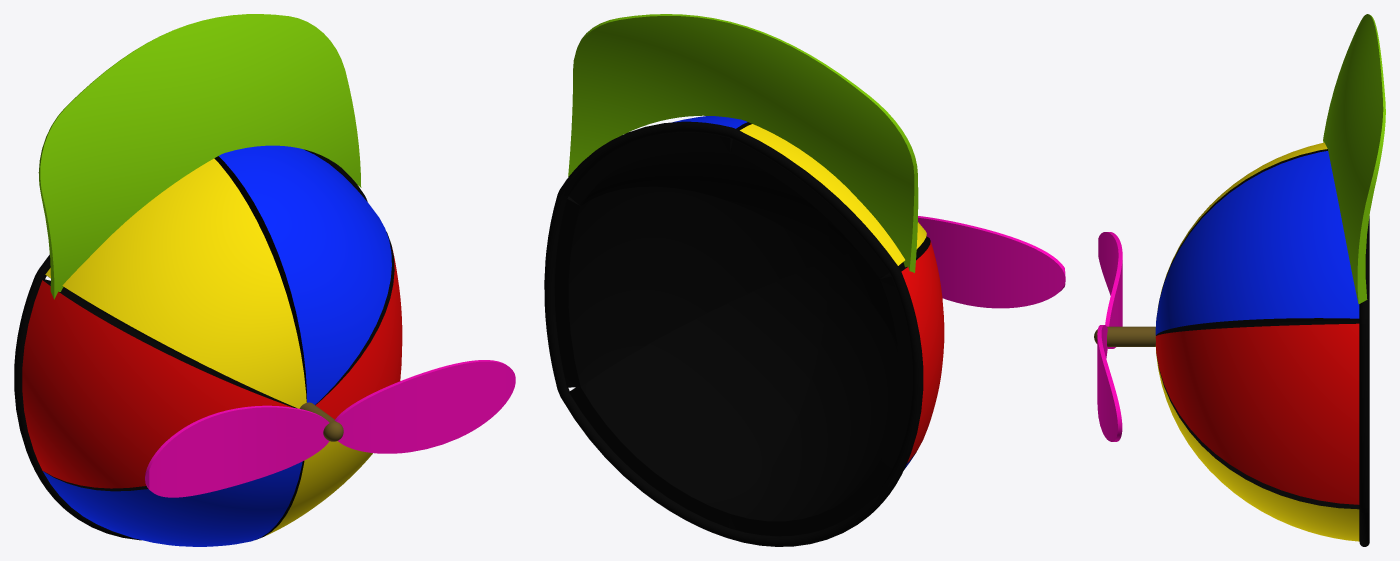
Rendered from Propeller.glb.
3 renders of one model, left to right at view 1: azimuth 30°, elevation 25°; view 2: azimuth 150°, elevation 25°; view 3: azimuth 270°, elevation 25°, orthographic. The views are drawn at different scales.
Bounding box in the file's own units: 26.67 × 33.95 × 18.14.
